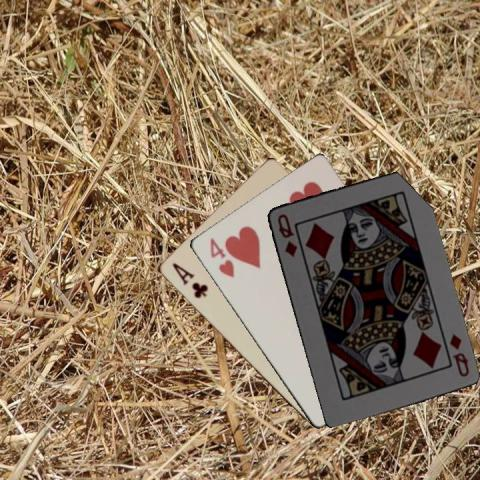4h: (206, 234, 236, 279)
Ac: (169, 260, 209, 300)
Qd: (274, 210, 299, 258), (446, 330, 470, 379)
